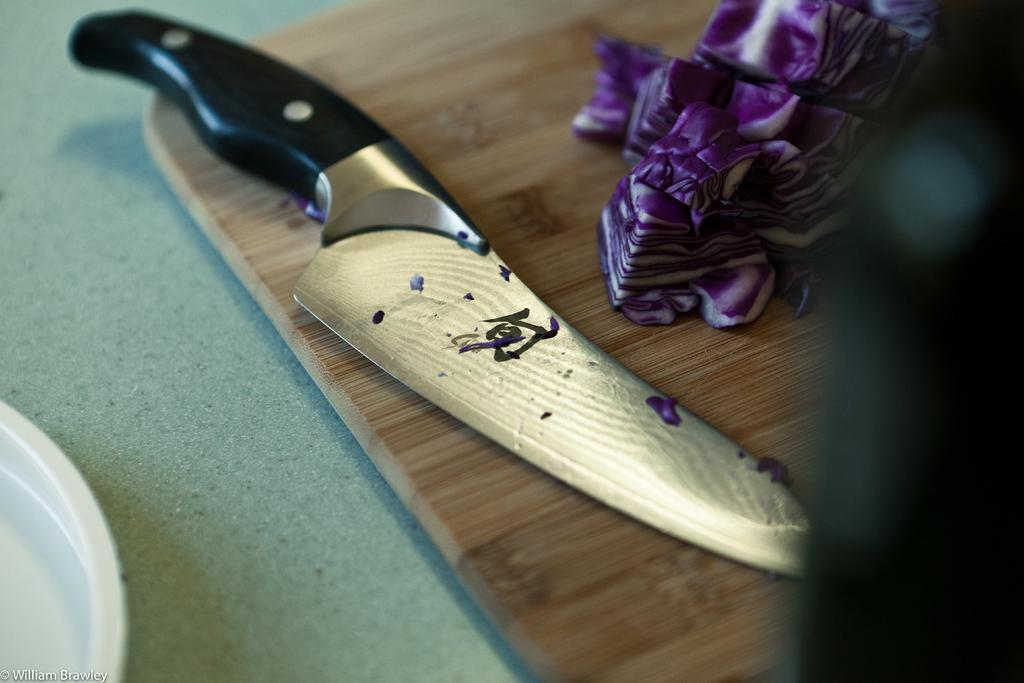knife: (66, 2, 812, 586)
